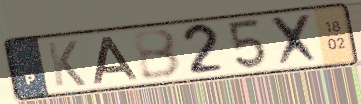2: (178, 21, 232, 80)
5: (224, 16, 270, 72)
A: (91, 35, 142, 85)
B: (130, 27, 185, 83)
K: (44, 39, 89, 89)
X: (268, 11, 323, 69)
